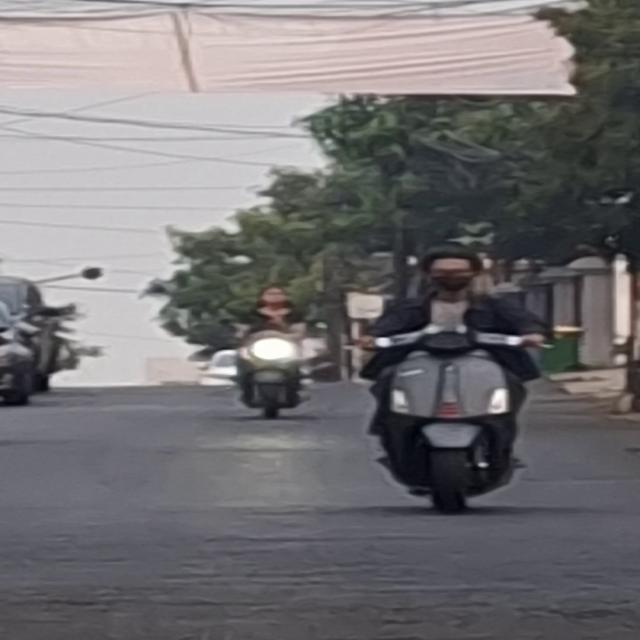WithoutHelmet: (356, 252, 562, 514), (216, 292, 325, 424)
